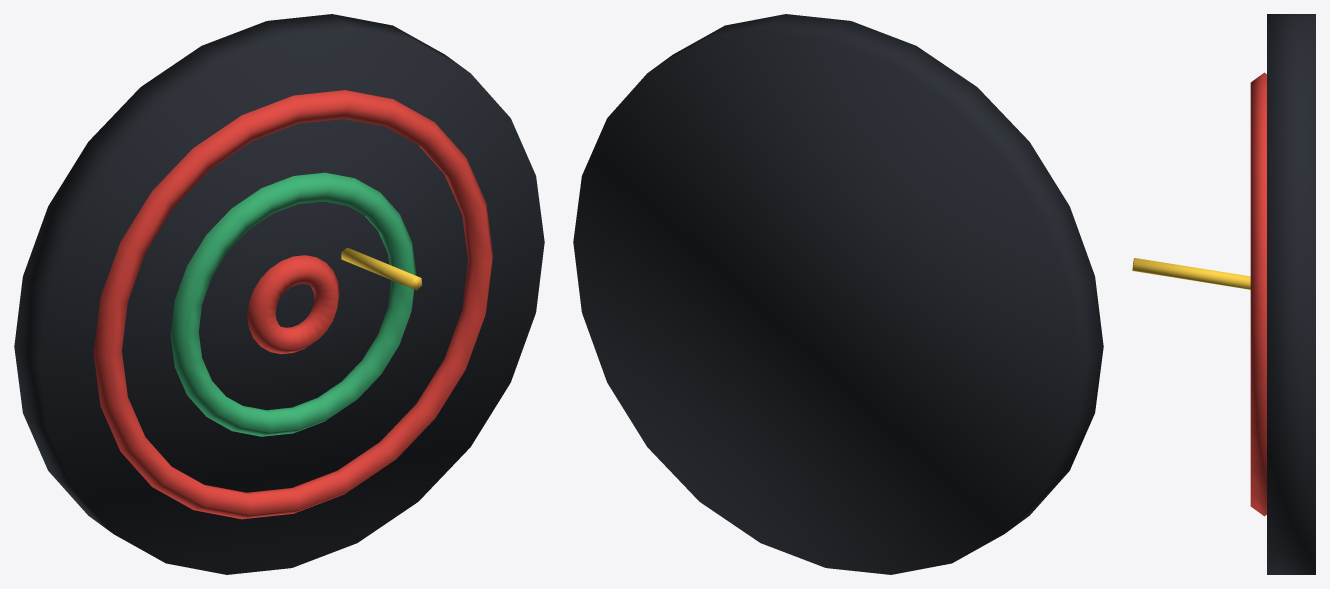
Rendered from Dartboard.fbx.
The picture shows the model from 3 angles, left to right: view 1: azimuth 30°, elevation 25°; view 2: azimuth 150°, elevation 25°; view 3: azimuth 270°, elevation 25°; orthographic projection. The views are drawn at different scales.
Visible parts, largest first — view 1: Board.002, Ring, Ring.001, Ring.002, Dart; view 2: Board.002; view 3: Board.002, Ring, Dart.
Part boxes in pixels (box(x1,y1,x2,y2)): Board.002: box(14, 14, 544, 574); Ring: box(93, 90, 493, 519); Ring.001: box(170, 172, 416, 436); Ring.002: box(247, 255, 339, 354); Dart: box(341, 247, 422, 290); Board.002: box(573, 14, 1103, 574); Board.002: box(1267, 14, 1315, 574); Ring: box(1250, 72, 1266, 516); Dart: box(1132, 258, 1250, 289).
Size of the model in its own units: 0.46 by 0.46 by 0.1501.
